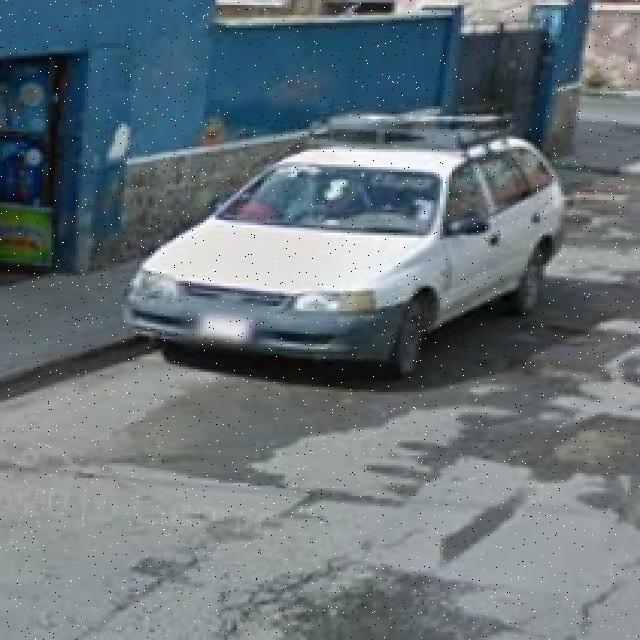cars: (128, 123, 573, 378)
